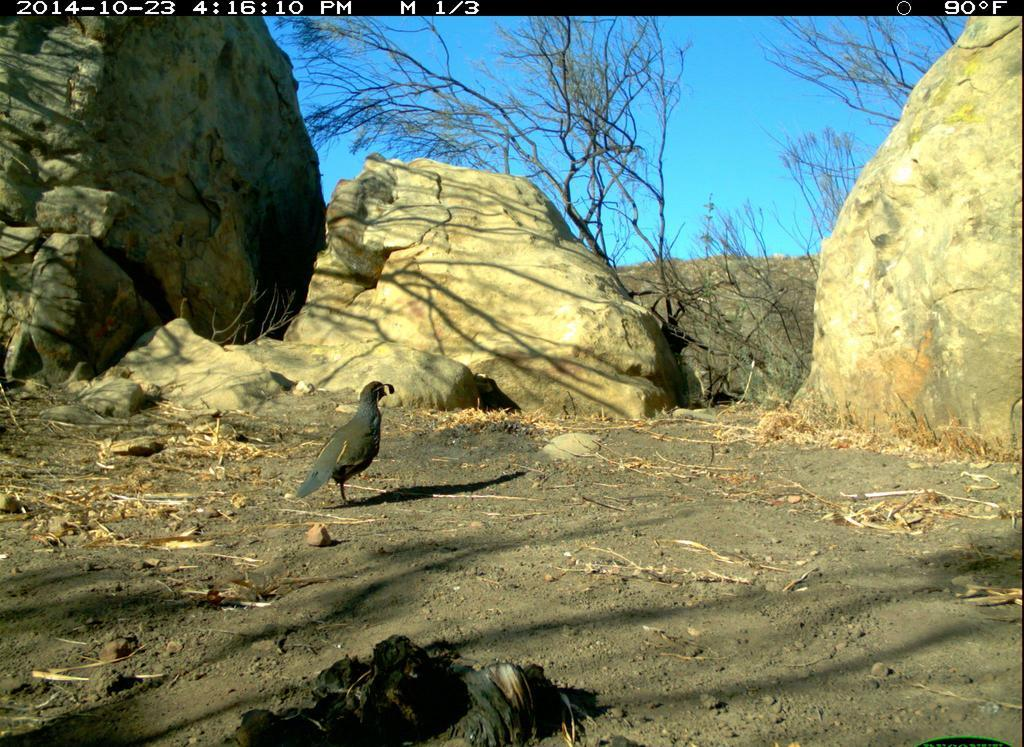bird: (297, 381, 405, 510)
